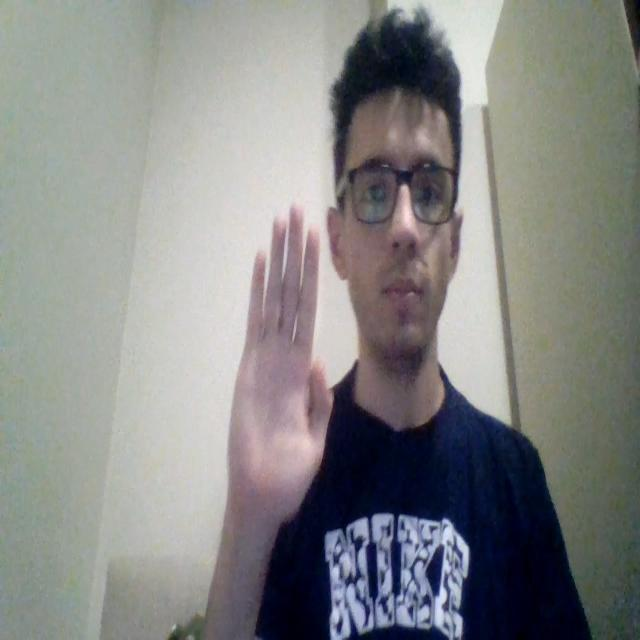hello: (226, 201, 334, 529)
